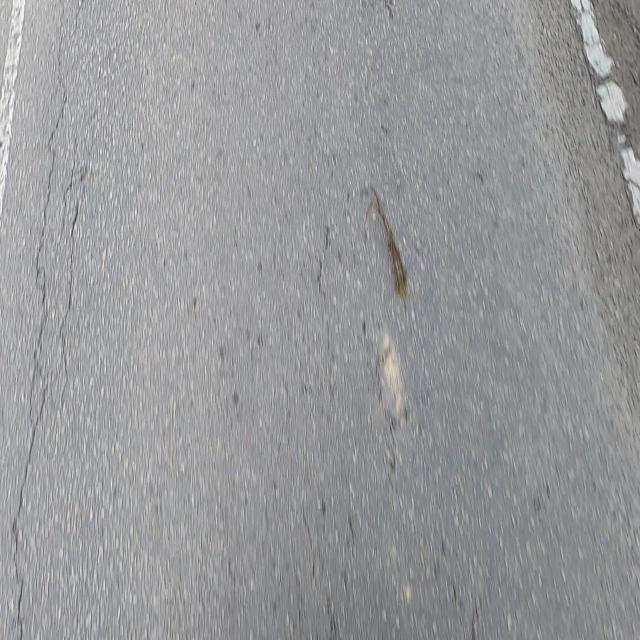Retak-Memanjang: (11, 52, 67, 640), (57, 207, 81, 408)
